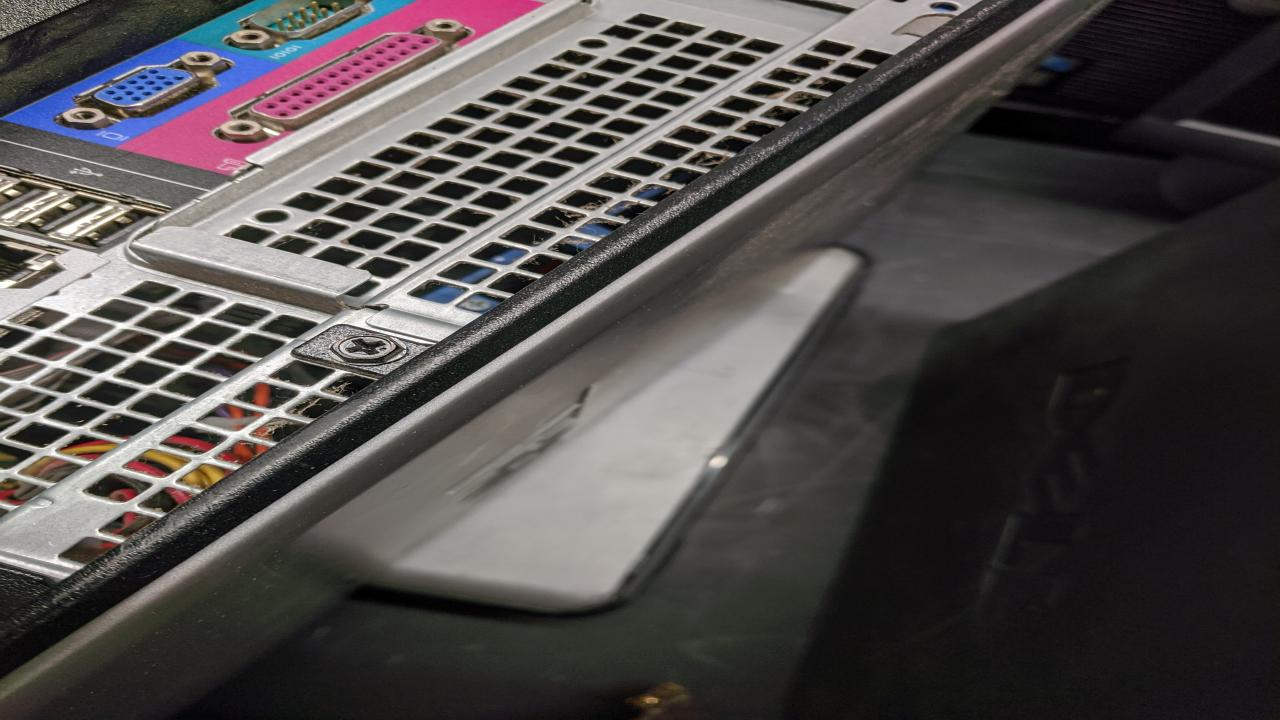CRS: (330, 334, 407, 361)
